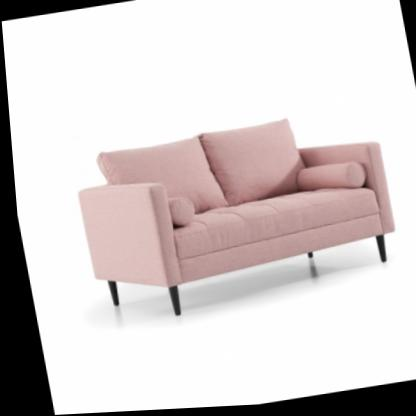Sofa: (63, 106, 403, 330)
